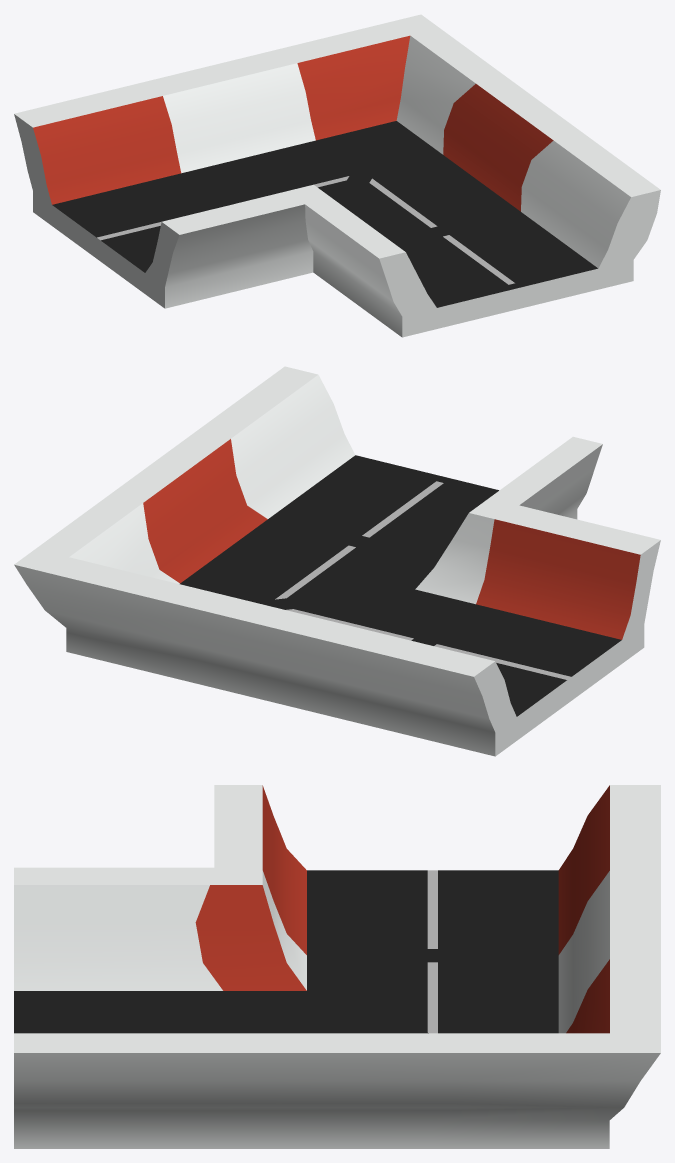
File: duong cua vuong  red.fbx
The picture shows the model from 3 angles, top to bottom: view 1: azimuth 30°, elevation 25°; view 2: azimuth 150°, elevation 25°; view 3: azimuth 270°, elevation 25°; orthographic projection. The views are drawn at different scales.
Parts seen in each view (by area): view 1: duong_cua_vuong; view 2: duong_cua_vuong; view 3: duong_cua_vuong.
Boxes of the visible parts, x1,y1,x2,y2 form: duong_cua_vuong: [14, 14, 660, 337]; duong_cua_vuong: [14, 366, 660, 756]; duong_cua_vuong: [14, 785, 660, 1148].
Bounding box in the file's own units: 30.26 × 6 × 30.87.
Materials: 1 (1 with a texture image).
